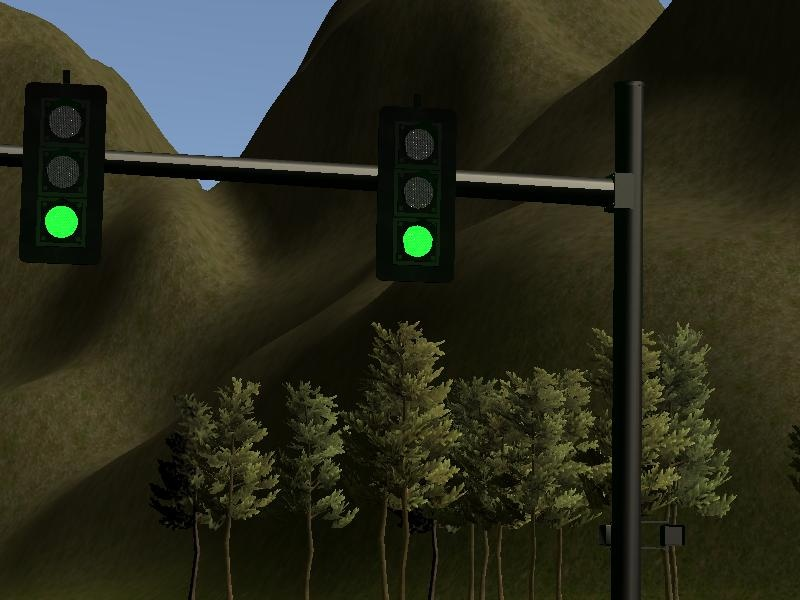GREEN: (23, 82, 106, 261), (381, 109, 457, 277)
